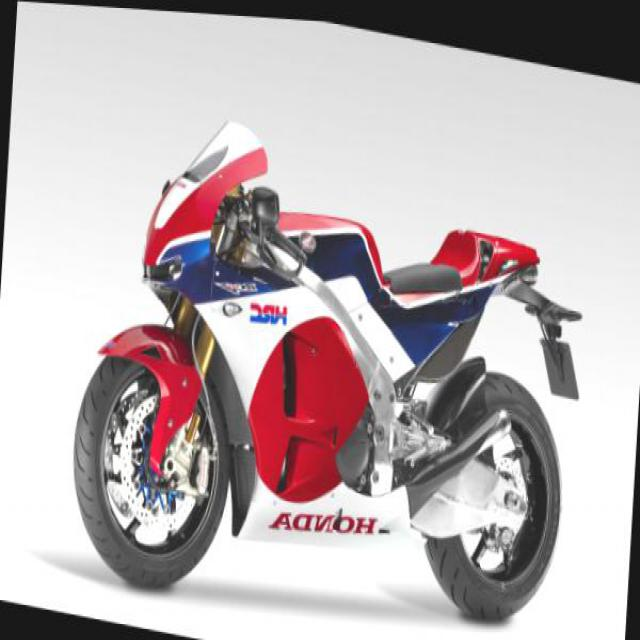HRC RCV 213: (70, 83, 592, 638)
